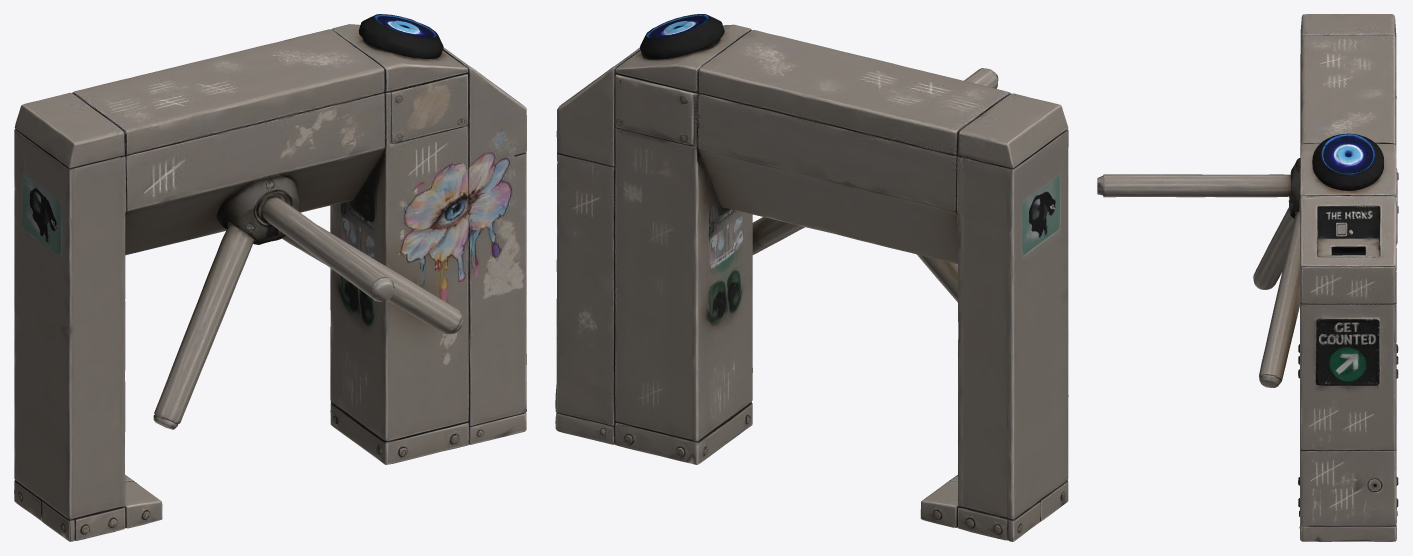
The model's file is mk_turnstile.glb.
3 views of the same model, side by side, from view 1: azimuth 30°, elevation 25°; view 2: azimuth 150°, elevation 25°; view 3: azimuth 270°, elevation 25° (orthographic). The views are drawn at different scales.
Visible parts, largest first — view 1: tripo_node_4ef7bf59-4b05-4f1b-a1e1-90e1f50e0a7f; view 2: tripo_node_4ef7bf59-4b05-4f1b-a1e1-90e1f50e0a7f; view 3: tripo_node_4ef7bf59-4b05-4f1b-a1e1-90e1f50e0a7f.
Part boxes in pixels (x1,y1,x2,y2): tripo_node_4ef7bf59-4b05-4f1b-a1e1-90e1f50e0a7f: (14, 14, 526, 541); tripo_node_4ef7bf59-4b05-4f1b-a1e1-90e1f50e0a7f: (555, 14, 1068, 541); tripo_node_4ef7bf59-4b05-4f1b-a1e1-90e1f50e0a7f: (1097, 14, 1398, 541).
Bounding box in the file's own units: 1 × 0.8656 × 0.661.
1 material, 1 textured.
